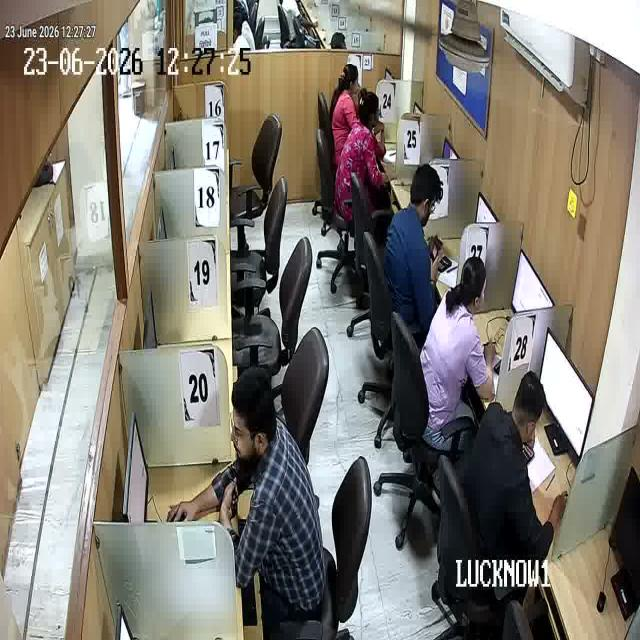phone: (423, 228, 448, 268)
